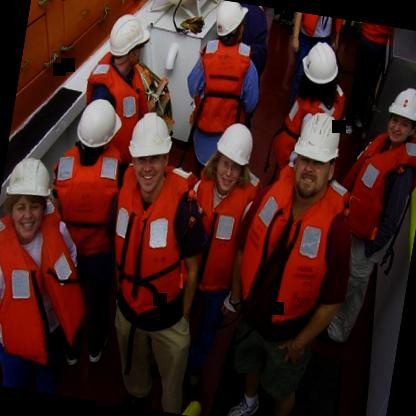helmet: (280, 96, 354, 218), (0, 143, 68, 250), (203, 108, 265, 206), (118, 105, 180, 202), (67, 88, 127, 166), (100, 8, 159, 76), (292, 34, 348, 98), (376, 80, 416, 151), (205, 0, 257, 51)
